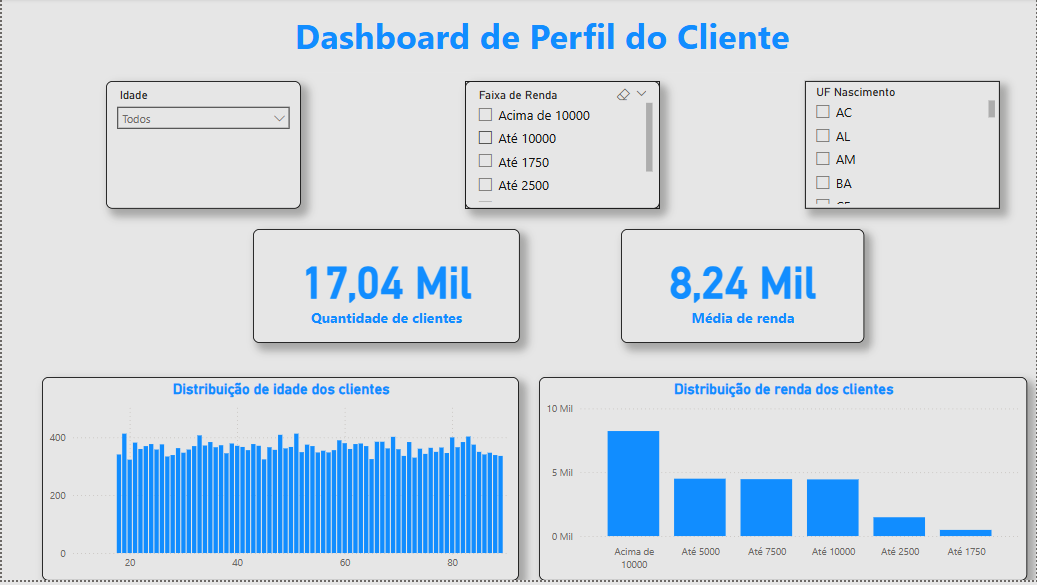

Layout of this report page (visuals, bound fields, positions):
{"tool":"powerbi","page":{"name":"Visão Compra","canvas":[1280,720],"ordinal":2},"visuals":[{"type":"slicer","fields":{"Values":["Base cliente.idade"]},"box":[128.9,103.1,241.1,157.7],"z":0},{"type":"slicer","fields":{"Values":["Base cliente.FaixaRenda"]},"box":[573.3,103.1,241.1,157.7],"z":1000},{"type":"slicer","fields":{"Values":["Base cliente.uf_nascimento"]},"box":[993.4,103.1,241.1,157.7],"z":2000},{"type":"card","fields":{"Values":["Count(Base cliente.cliente_Log)"]},"box":[310,286.2,330,141.2],"z":3000},{"type":"card","fields":{"Values":["Avg(Base cliente.renda)"]},"box":[766.2,286.2,301.2,141.2],"z":4000},{"type":"lineClusteredColumnComboChart","title":"Distribuição de idade dos clientes","fields":{"Category":["Base cliente.Faixa de idade"],"Y":["Count(Base cliente.cliente_Log)"]},"box":[50,468.6,590,251.8],"z":5000},{"type":"lineClusteredColumnComboChart","title":"Distribuição de renda dos clientes","fields":{"Category":["Base cliente.FaixaRenda"],"Y":["Count(Base cliente.cliente_Log)"]},"box":[664.3,468.6,603.6,251.8],"z":6000},{"type":"textbox","box":[238.1,12.1,861.4,80.4],"z":8000}]}

Visuals, with their boxes in screenshot pixels (x1, y1, x2, y2), scaled from the page's 1280x720 canvas onto the 1037x585 screenshot:
slicer - Base cliente.idade: [x1=104, y1=84, x2=300, y2=212]
slicer - Base cliente.FaixaRenda: [x1=464, y1=84, x2=660, y2=212]
slicer - Base cliente.uf_nascimento: [x1=805, y1=84, x2=1000, y2=212]
card - Count(Base cliente.cliente_Log): [x1=251, y1=233, x2=518, y2=347]
card - Avg(Base cliente.renda): [x1=621, y1=233, x2=865, y2=347]
"Distribuição de idade dos clientes" lineClusteredColumnComboChart: [x1=41, y1=381, x2=518, y2=584]
"Distribuição de renda dos clientes" lineClusteredColumnComboChart: [x1=538, y1=381, x2=1027, y2=584]
textbox: [x1=193, y1=10, x2=891, y2=75]
